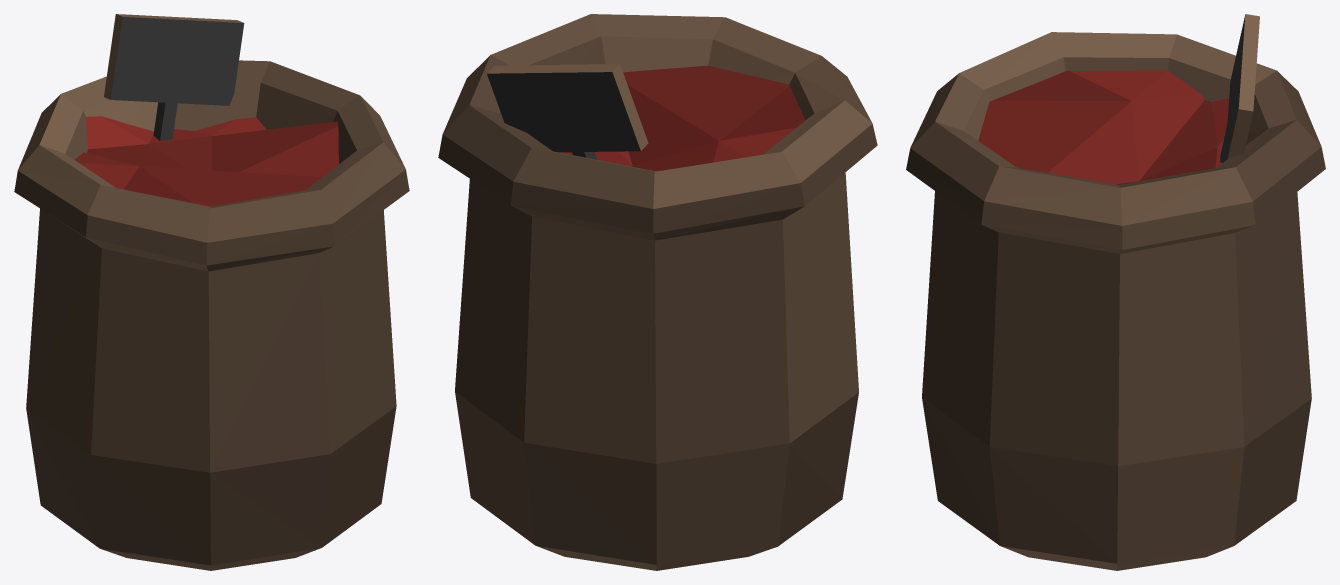
Rendered from Prop_GrainBagF.fbx.
3 views of the same model, side by side, from view 1: azimuth 30°, elevation 25°; view 2: azimuth 150°, elevation 25°; view 3: azimuth 270°, elevation 25° (orthographic). The views are drawn at different scales.
Visible parts, largest first — view 1: Prop_GrainBagF; view 2: Prop_GrainBagF; view 3: Prop_GrainBagF.
Part boxes in pixels (x1,y1,x2,y2): Prop_GrainBagF: (14, 14, 409, 570); Prop_GrainBagF: (438, 14, 877, 570); Prop_GrainBagF: (906, 14, 1325, 570).
Size of the model in its own units: 55.71 by 71.8 by 56.4.
